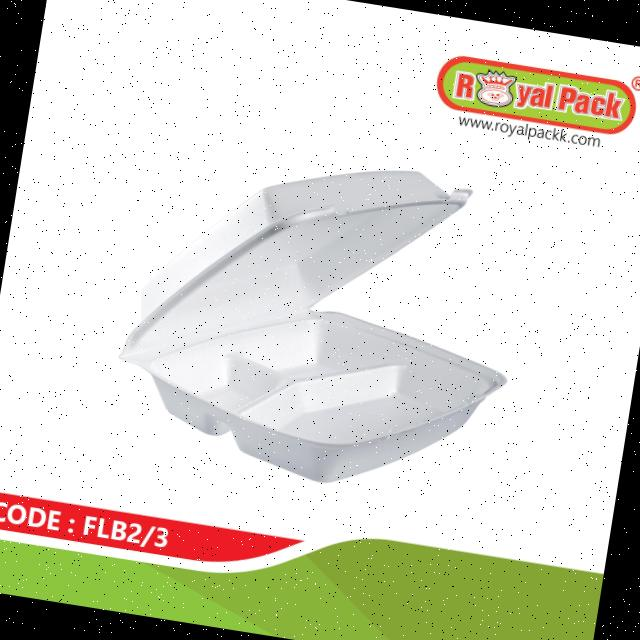styrofoam: (104, 127, 538, 509)
